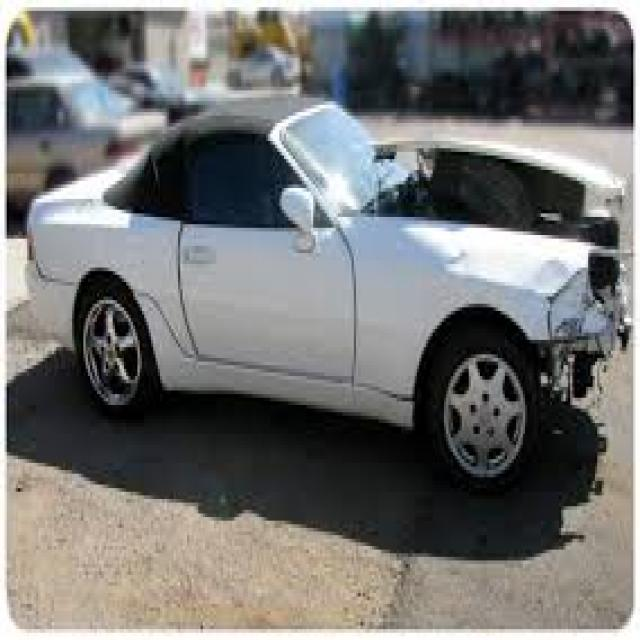moderate: (386, 128, 628, 256), (505, 275, 633, 442)
